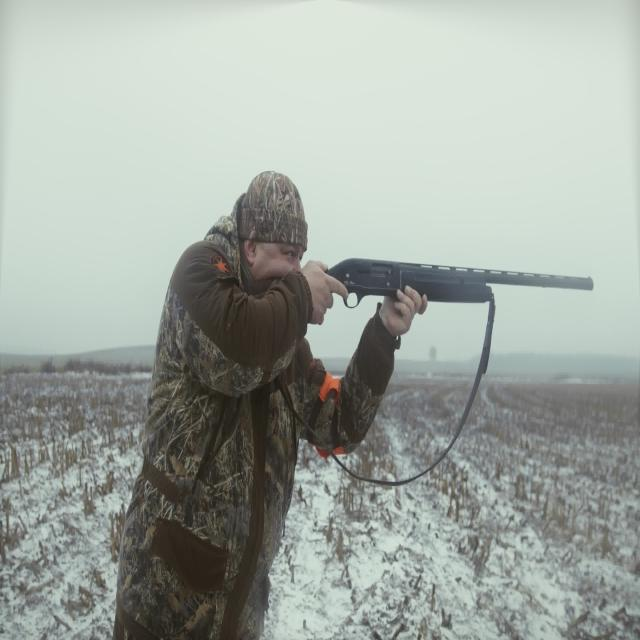poacher: (238, 198, 404, 627)
weapon: (318, 236, 577, 346)
